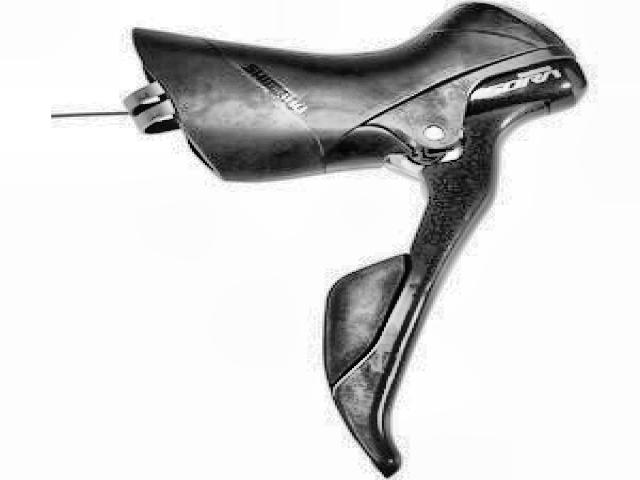sti_shifter: (154, 1, 601, 476)
